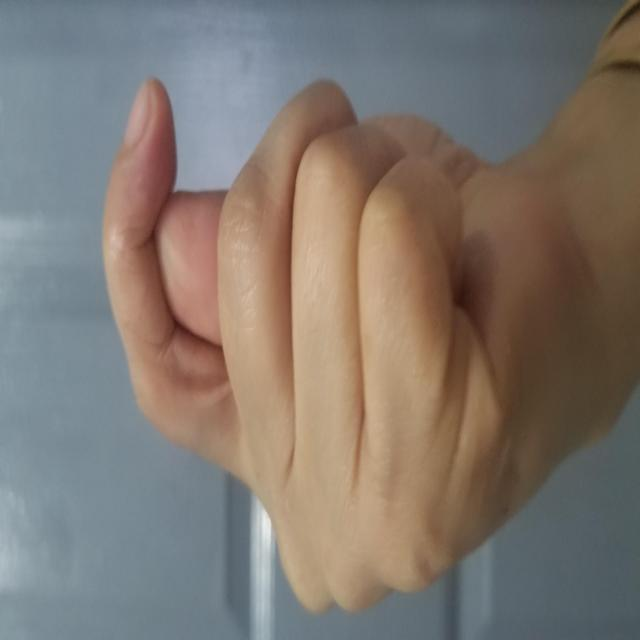T: (24, 102, 568, 549)
